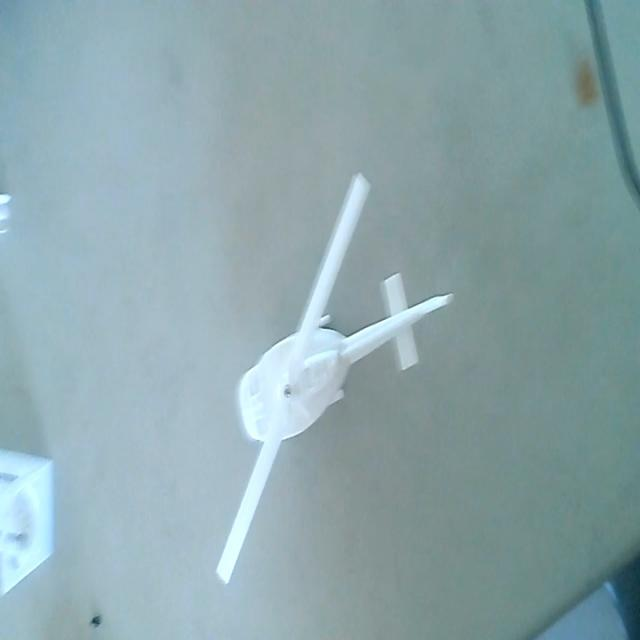Helicopter: (212, 166, 454, 588)
